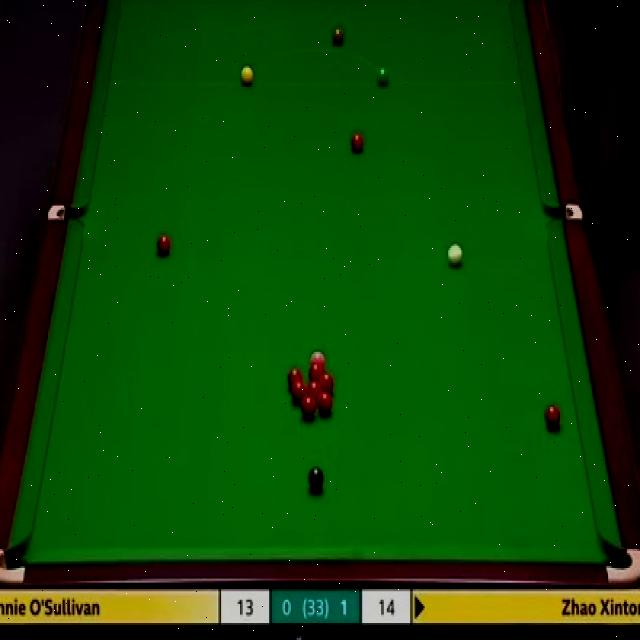black-ball: (306, 464, 324, 494)
brown-ball: (332, 26, 345, 47)
green-ball: (375, 67, 391, 89)
pink-ball: (310, 349, 326, 363)
red-ball: (544, 404, 561, 431), (155, 235, 171, 259), (318, 393, 332, 417), (287, 367, 302, 389), (302, 395, 316, 418), (319, 372, 333, 395), (306, 380, 322, 398), (309, 362, 325, 380), (292, 382, 306, 402), (351, 132, 364, 152), (240, 519, 240, 519)
white-ball: (444, 240, 464, 268)
yellow-ball: (240, 66, 254, 86)
